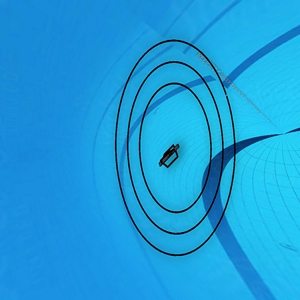circle: (112, 33, 240, 262)
submarine: (157, 141, 185, 167)
